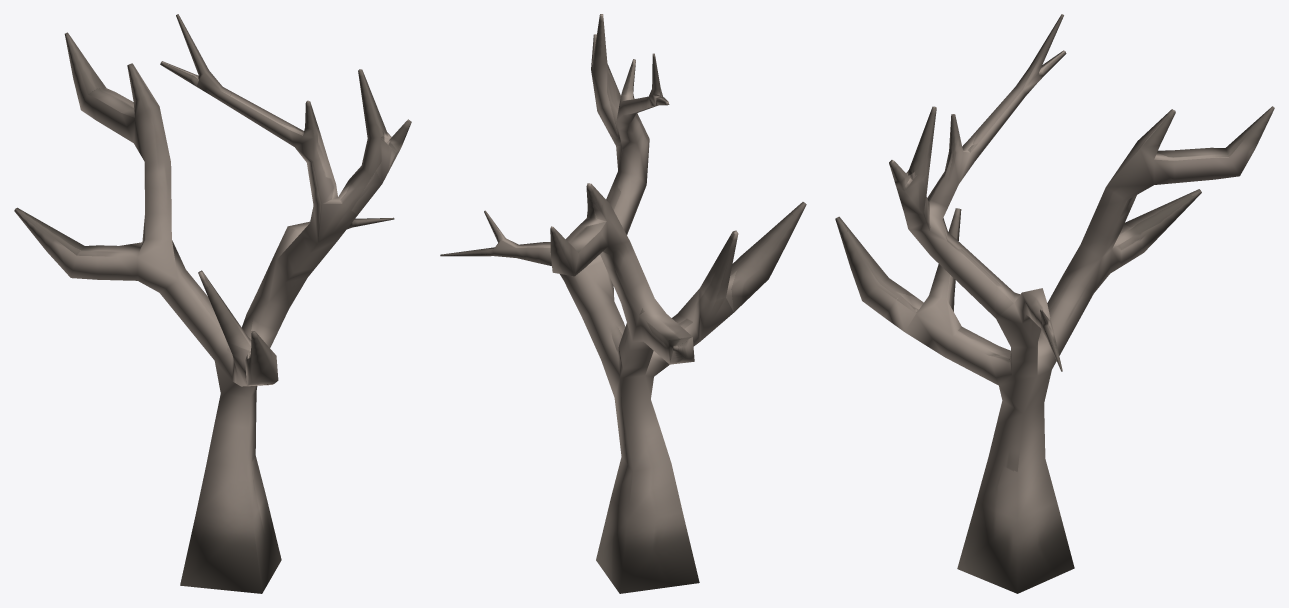
The model's file is ArvoreSeca.001.fbx.
3 renders of one model, left to right at view 1: azimuth 30°, elevation 25°; view 2: azimuth 150°, elevation 25°; view 3: azimuth 270°, elevation 25°, orthographic.
Parts seen in each view (by area): view 1: ArvoreSeca.001; view 2: ArvoreSeca.001; view 3: ArvoreSeca.001.
Part boxes in pixels (<box>): ArvoreSeca.001: <box>14,14,411,593</box>; ArvoreSeca.001: <box>440,14,806,593</box>; ArvoreSeca.001: <box>835,14,1274,593</box>.
Bounding box in the file's own units: 689 × 1167 × 860.
